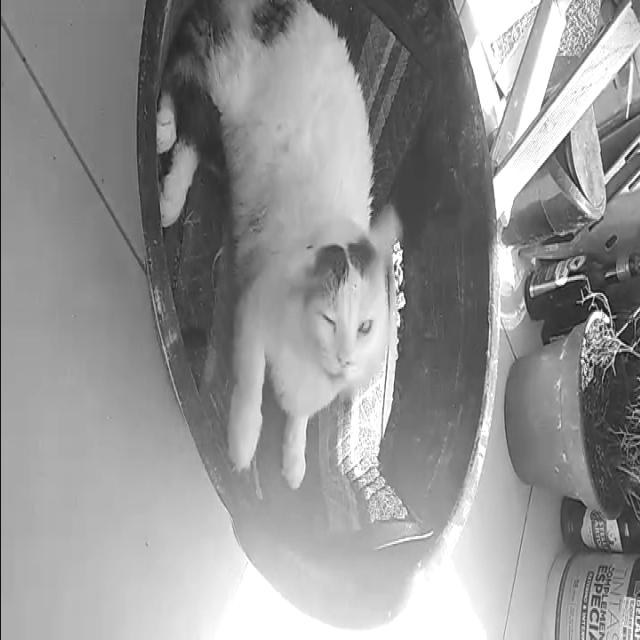Simba: (123, 16, 404, 510)
